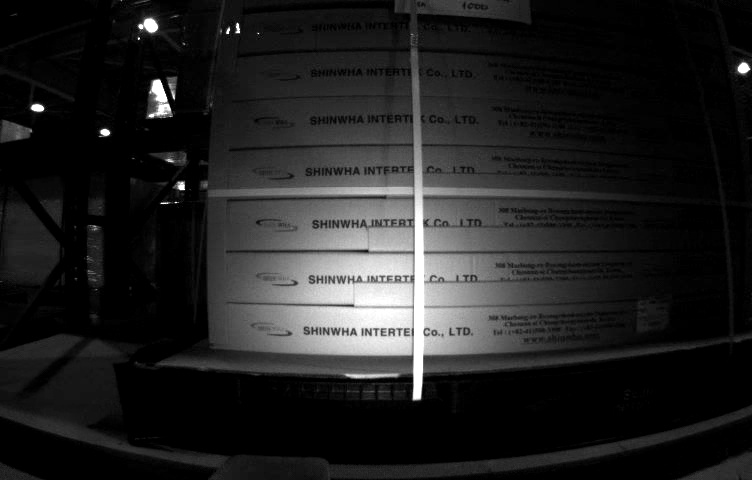True Barcode: (637, 297, 669, 330)
